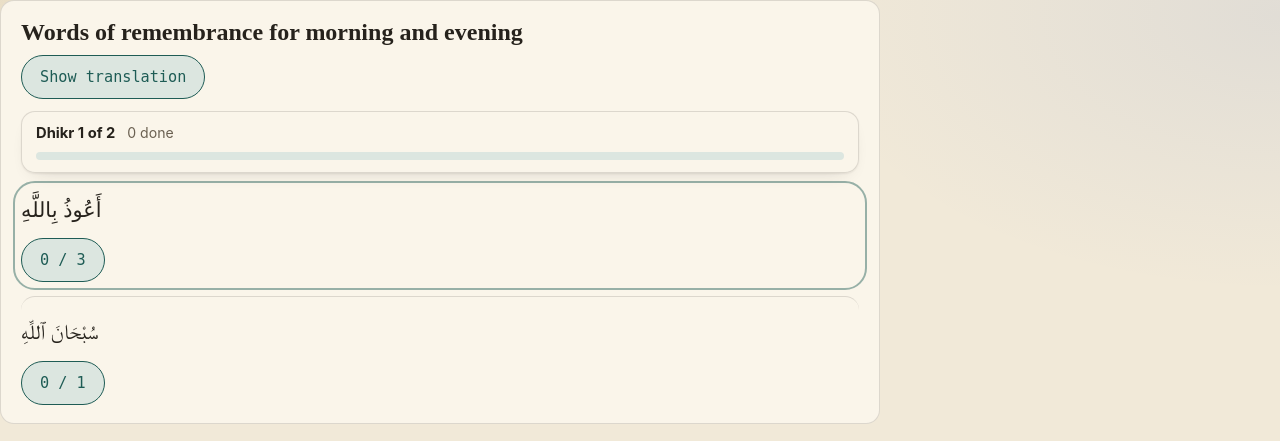
Test case: AzkarList — progress › says so when everything is done
What coordinates should you click on to do the following:
click the button "0 / 3"
I would click on:
 (63, 260)
Its box is [21, 238, 105, 282].
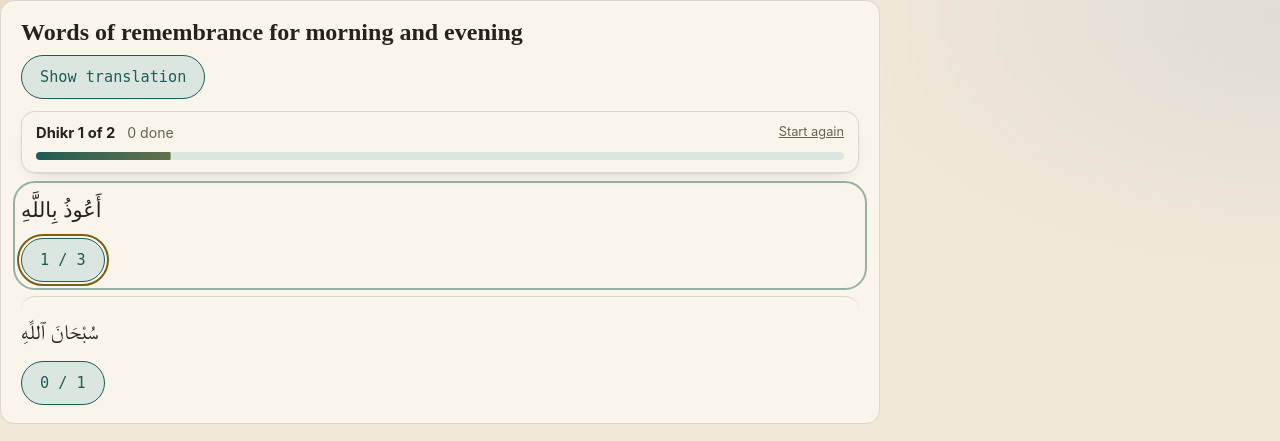
What coordinates should you click on to do the following:
click the button "1 / 3"
I would click on:
 (63, 260)
Its box is [21, 238, 105, 282].
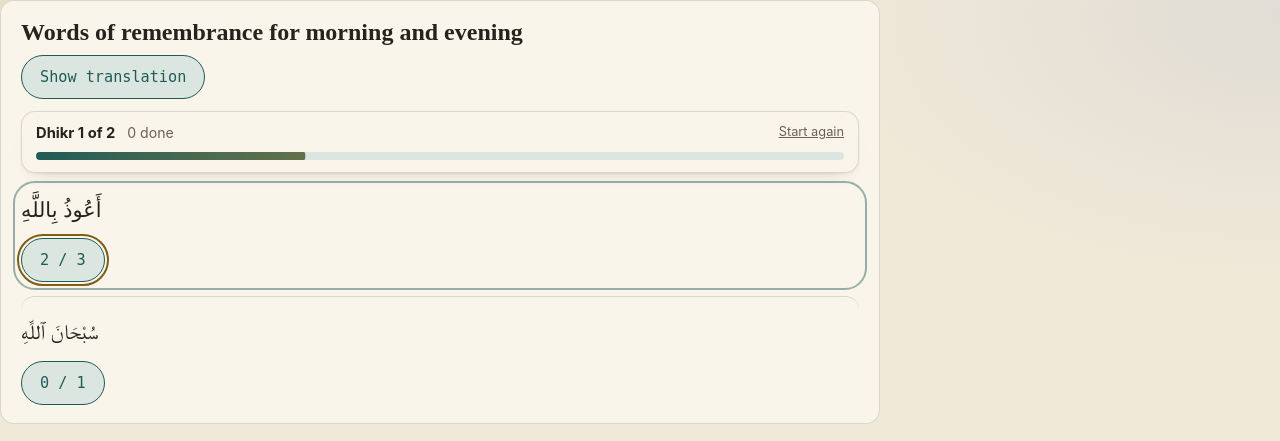
What coordinates should you click on to do the following:
click the button "2 / 3"
I would click on:
 (63, 260)
Its box is [21, 238, 105, 282].
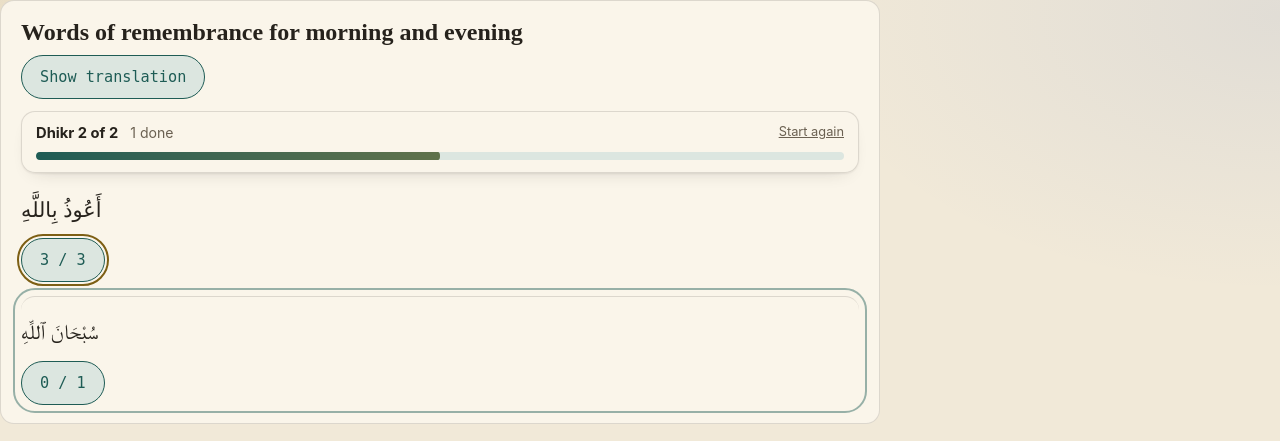
What coordinates should you click on to do the following:
click the button "0 / 1"
I would click on:
 (63, 383)
Its box is [21, 361, 105, 405].
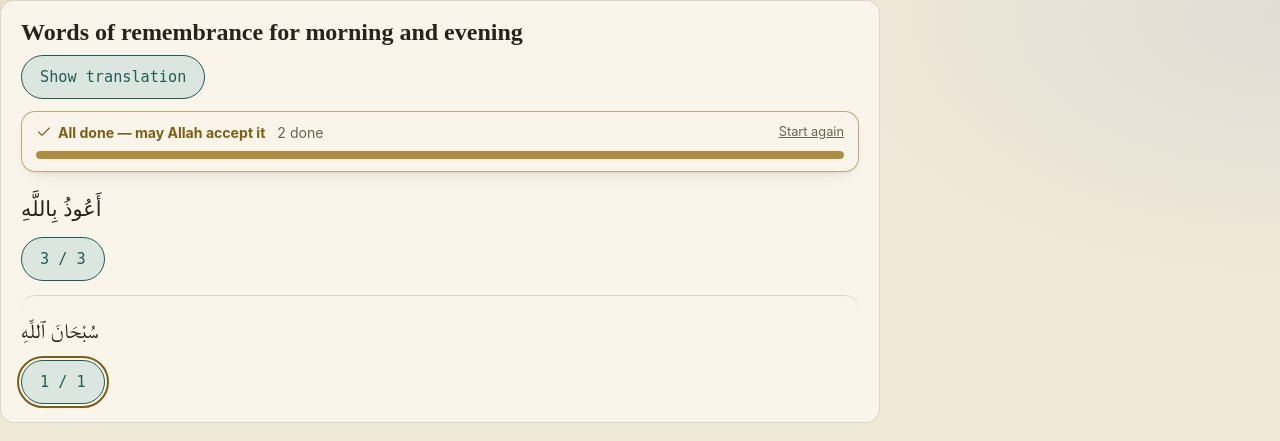
Result: the message reads "All done — may Allah accept it" at [58, 124, 265, 141]
